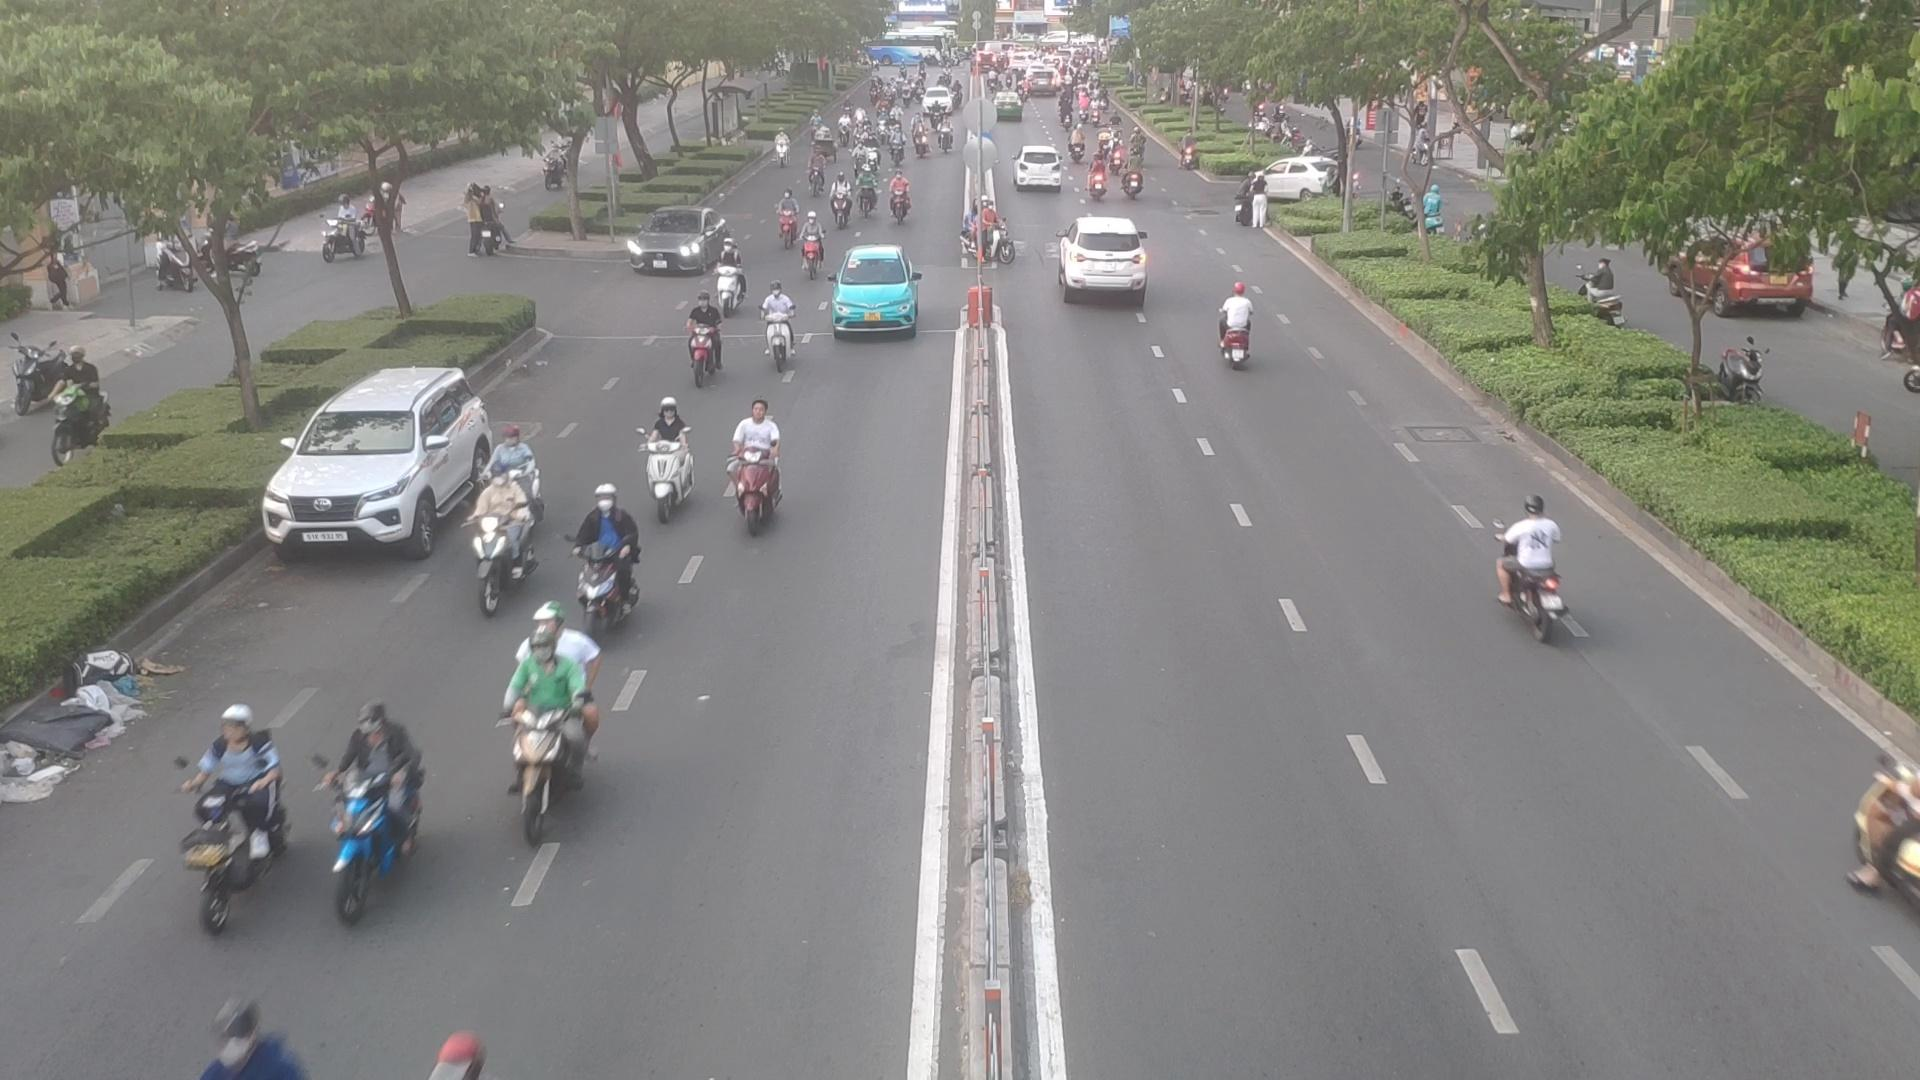car: (262, 363, 497, 564), (823, 247, 920, 338), (621, 206, 733, 276), (1059, 216, 1153, 297), (1250, 157, 1344, 202), (1015, 144, 1071, 189)
motorbike: (178, 702, 291, 936), (322, 702, 433, 919), (464, 462, 543, 616), (580, 484, 644, 632), (1495, 493, 1563, 625), (733, 398, 785, 538), (653, 394, 692, 517), (676, 290, 728, 377), (1213, 272, 1259, 360), (709, 229, 742, 310), (973, 207, 1010, 266), (767, 183, 796, 252), (769, 286, 793, 360), (829, 167, 851, 225), (890, 169, 913, 222), (804, 204, 820, 274), (1087, 156, 1109, 199), (1124, 152, 1143, 196), (858, 169, 876, 214), (769, 127, 789, 165), (890, 127, 909, 161), (808, 153, 822, 196), (868, 136, 884, 170), (1112, 136, 1125, 170), (853, 144, 865, 174)
